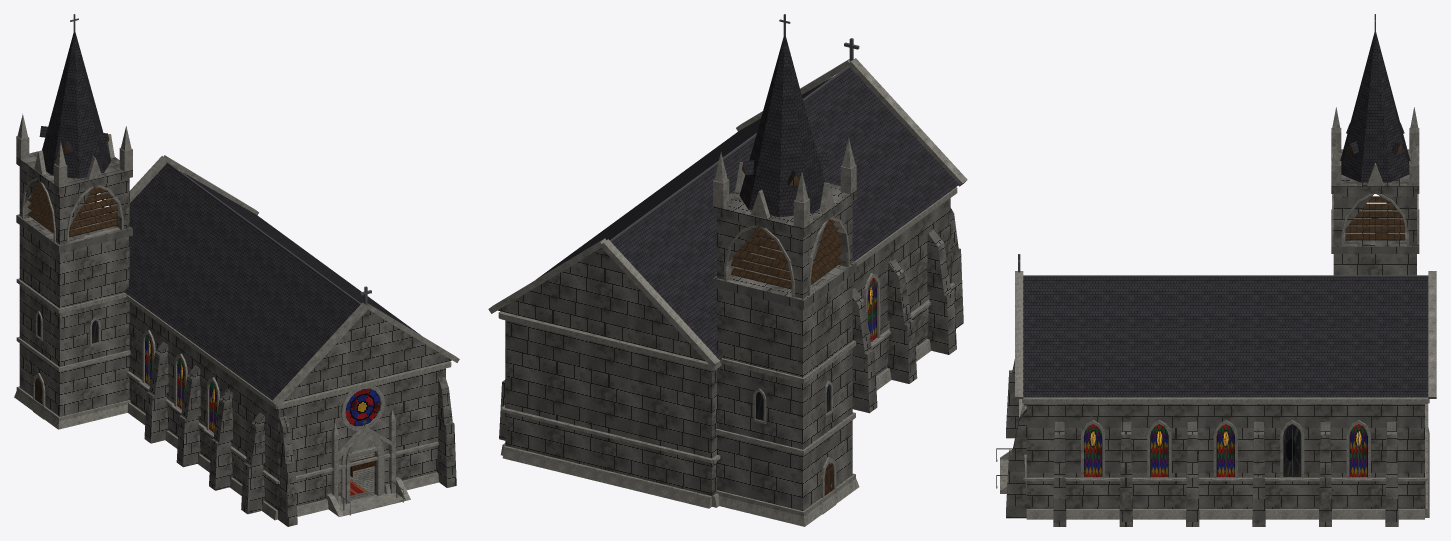
Rendered from church.glb.
3 views of the same model, side by side, from view 1: azimuth 30°, elevation 25°; view 2: azimuth 150°, elevation 25°; view 3: azimuth 270°, elevation 25° (orthographic). The views are drawn at different scales.
Visible parts, largest first — view 1: detail, shell-col; view 2: detail, shell-col; view 3: detail, shell-col.
Boxes of the visible parts, x1,y1,x2,y2 form: detail: (14,14,459,520); shell-col: (16,150,456,526); detail: (488,14,967,526); shell-col: (499,182,963,510); detail: (996,14,1436,519); shell-col: (1006,149,1424,526).
Bounding box in the file's own units: 18.55 × 27.2 × 26.53.
Materials: 24 (24 with a texture image).
